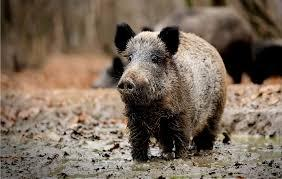wildboar: (109, 19, 231, 162)
